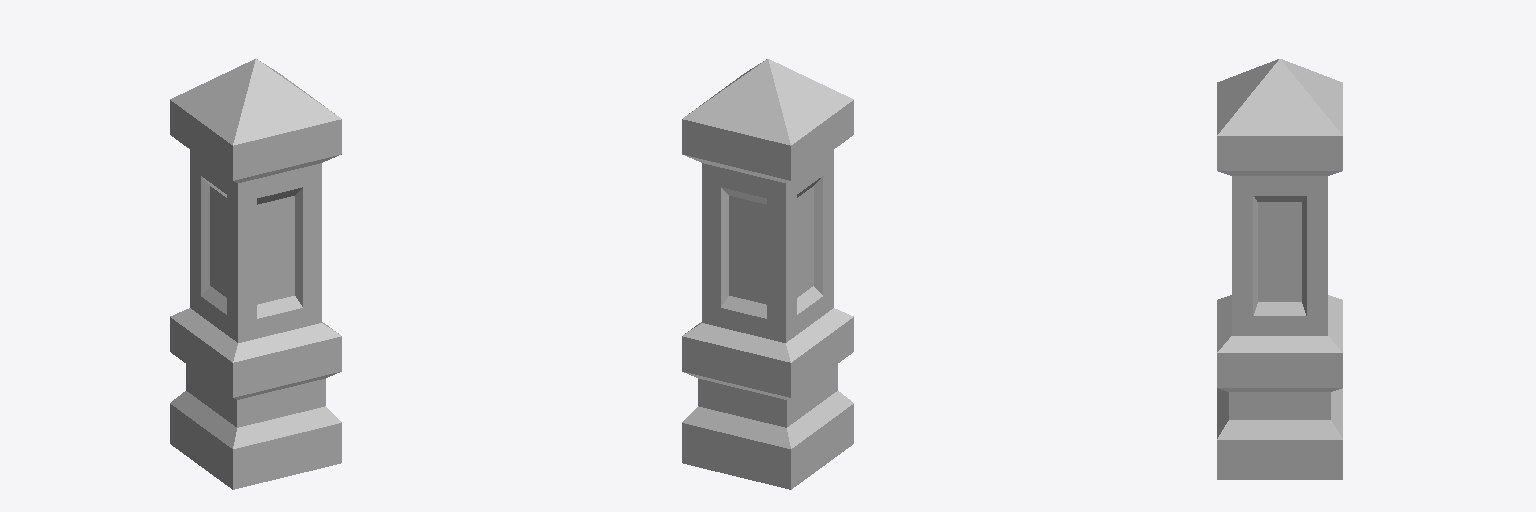
File: fencePost.obj
3 renders of one model, left to right at view 1: azimuth 30°, elevation 25°; view 2: azimuth 150°, elevation 25°; view 3: azimuth 270°, elevation 25°, orthographic.
Parts seen in each view (by area): view 1: fencePost_Cube.1390; view 2: fencePost_Cube.1390; view 3: fencePost_Cube.1390.
Boxes of the visible parts, x1=… form: fencePost_Cube.1390: x1=170, y1=59, x2=341, y2=489; fencePost_Cube.1390: x1=682, y1=59, x2=853, y2=489; fencePost_Cube.1390: x1=1217, y1=59, x2=1342, y2=479.
Bounding box in the file's own units: 0.4 × 1.38 × 0.4.